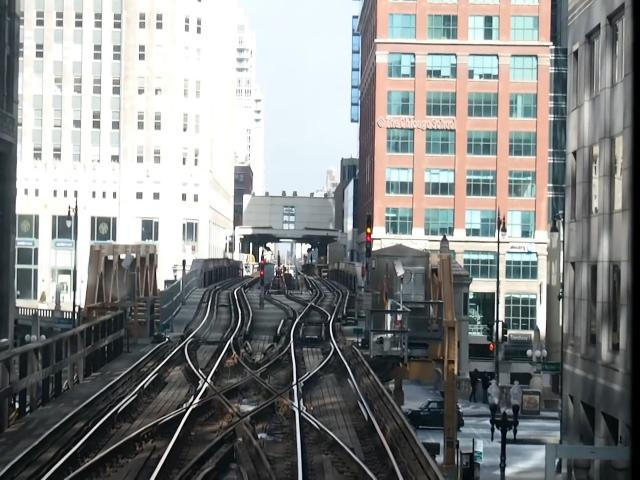signal light: (366, 213, 374, 263), (260, 260, 267, 291)
